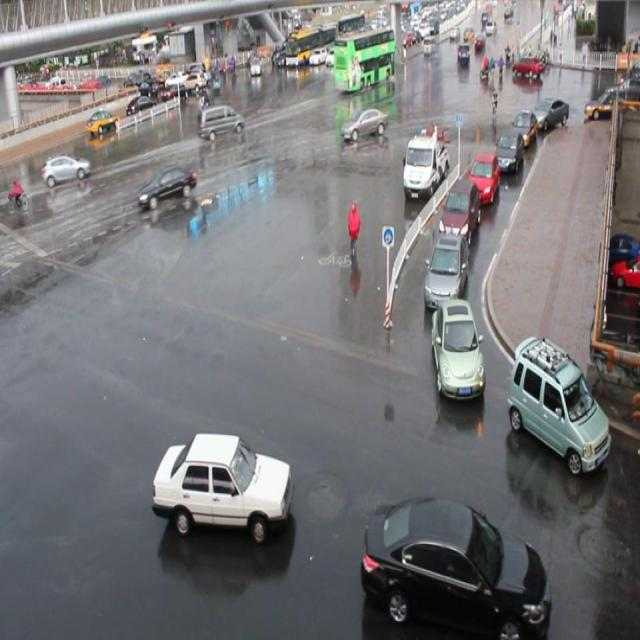bus: (402, 130, 449, 200)
car: (362, 494, 549, 640), (152, 431, 292, 542), (506, 332, 610, 470), (431, 298, 484, 400), (423, 231, 468, 308), (438, 178, 480, 244), (137, 166, 195, 206), (466, 150, 499, 204), (340, 106, 387, 143), (43, 153, 91, 187), (493, 129, 524, 172), (531, 96, 568, 130), (510, 110, 537, 146)
truck: (198, 103, 245, 138)
